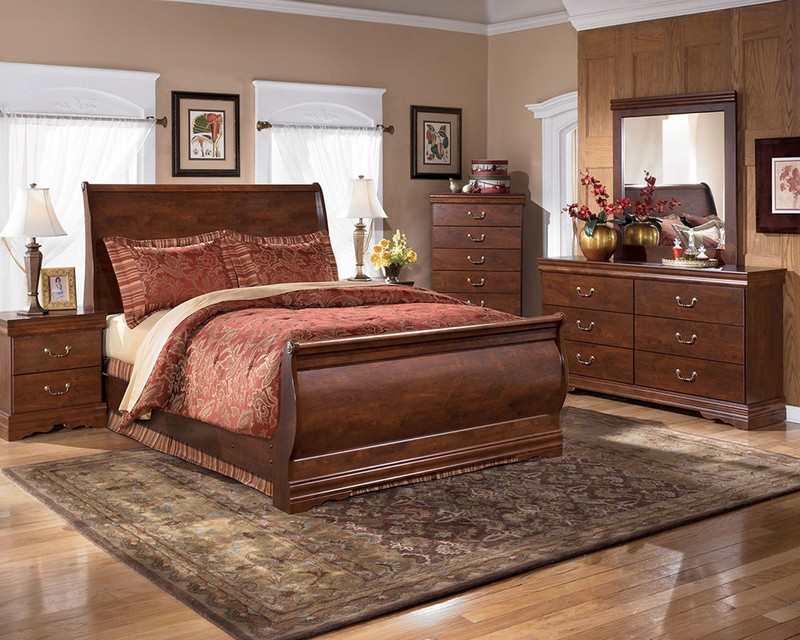bed: (78, 179, 568, 500)
lamp: (1, 175, 70, 322), (337, 169, 389, 286)
stool: (4, 308, 111, 437)
